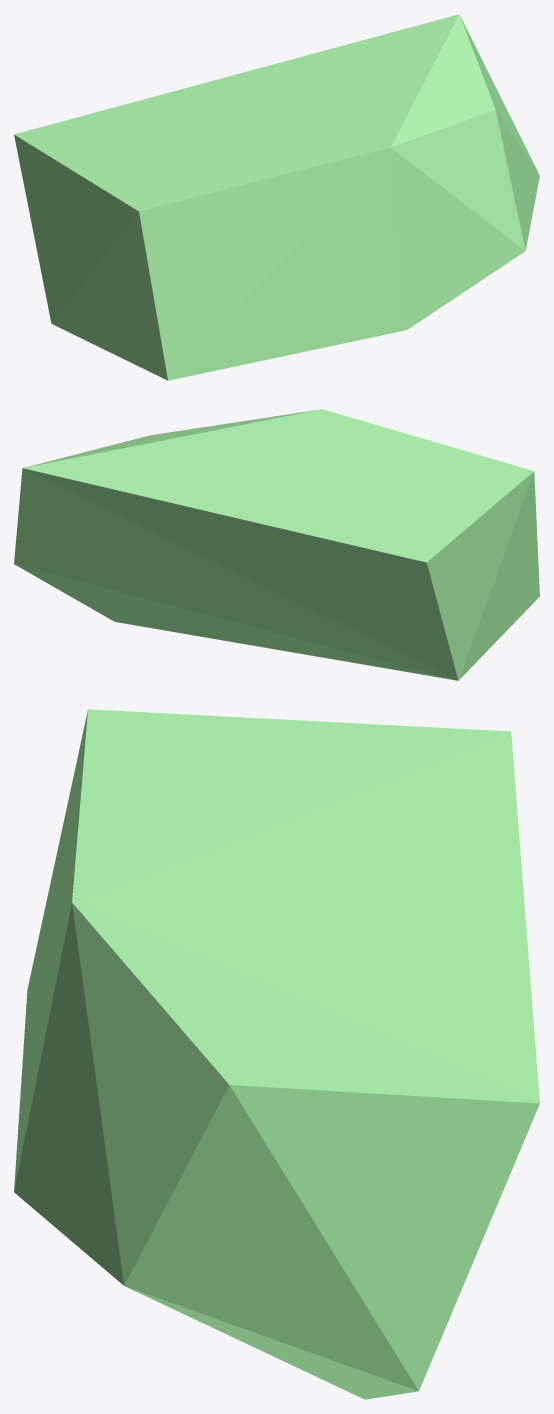
Rendered from linkhou_LR4_R560_link7_respondable_coll_10.dae.
The picture shows the model from 3 angles, top to bottom: view 1: azimuth 30°, elevation 25°; view 2: azimuth 150°, elevation 25°; view 3: azimuth 270°, elevation 25°; orthographic projection. The views are drawn at different scales.
Visible parts, largest first — view 1: Node_0000029808434A70; view 2: Node_0000029808434A70; view 3: Node_0000029808434A70.
Boxes of the visible parts, bbox=[...] form: Node_0000029808434A70: bbox=[14, 14, 539, 380]; Node_0000029808434A70: bbox=[14, 409, 539, 680]; Node_0000029808434A70: bbox=[14, 709, 539, 1399].
Size of the model in its own units: 0.00997 by 0.00415 by 0.00534.
